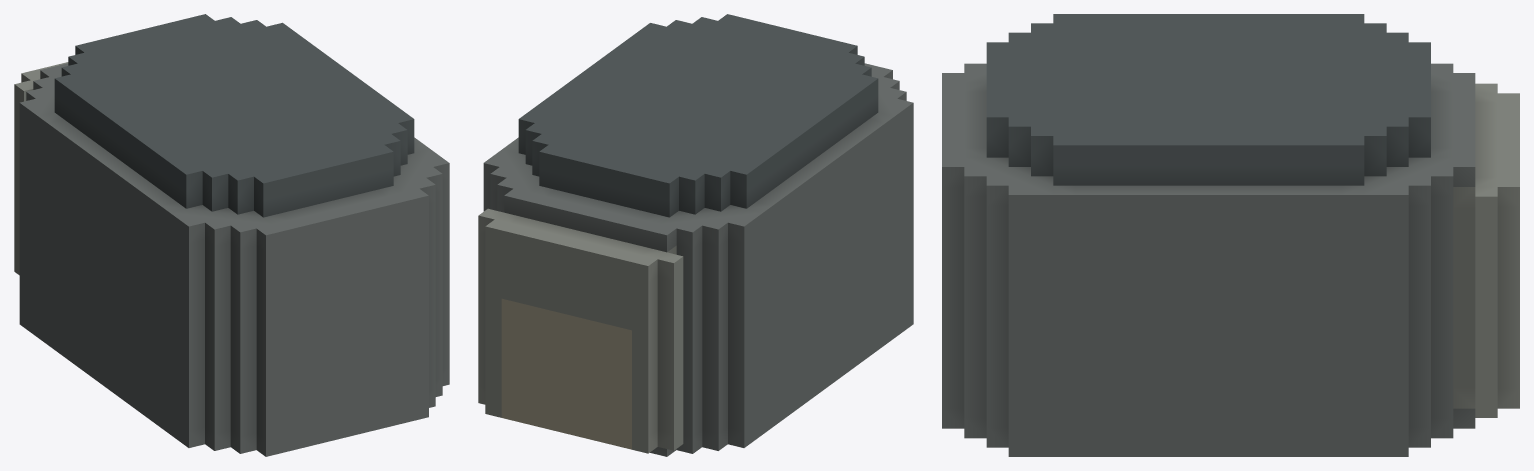
The model's file is body.glb.
The picture shows the model from 3 angles, left to right: view 1: azimuth 30°, elevation 25°; view 2: azimuth 150°, elevation 25°; view 3: azimuth 270°, elevation 25°; orthographic projection. The views are drawn at different scales.
Visible parts, largest first — view 1: VoxelVisual; view 2: VoxelVisual; view 3: VoxelVisual.
Part boxes in pixels (bbox=[...]): VoxelVisual: bbox=[14, 14, 449, 456]; VoxelVisual: bbox=[478, 14, 913, 456]; VoxelVisual: bbox=[942, 14, 1519, 456].
Size of what is drawn, in the model's own units: 1 by 0.9375 by 1.62.
